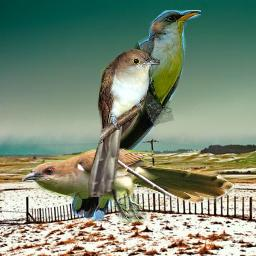Cuckoo: (72, 10, 201, 221), (22, 148, 236, 223), (88, 48, 160, 197)
